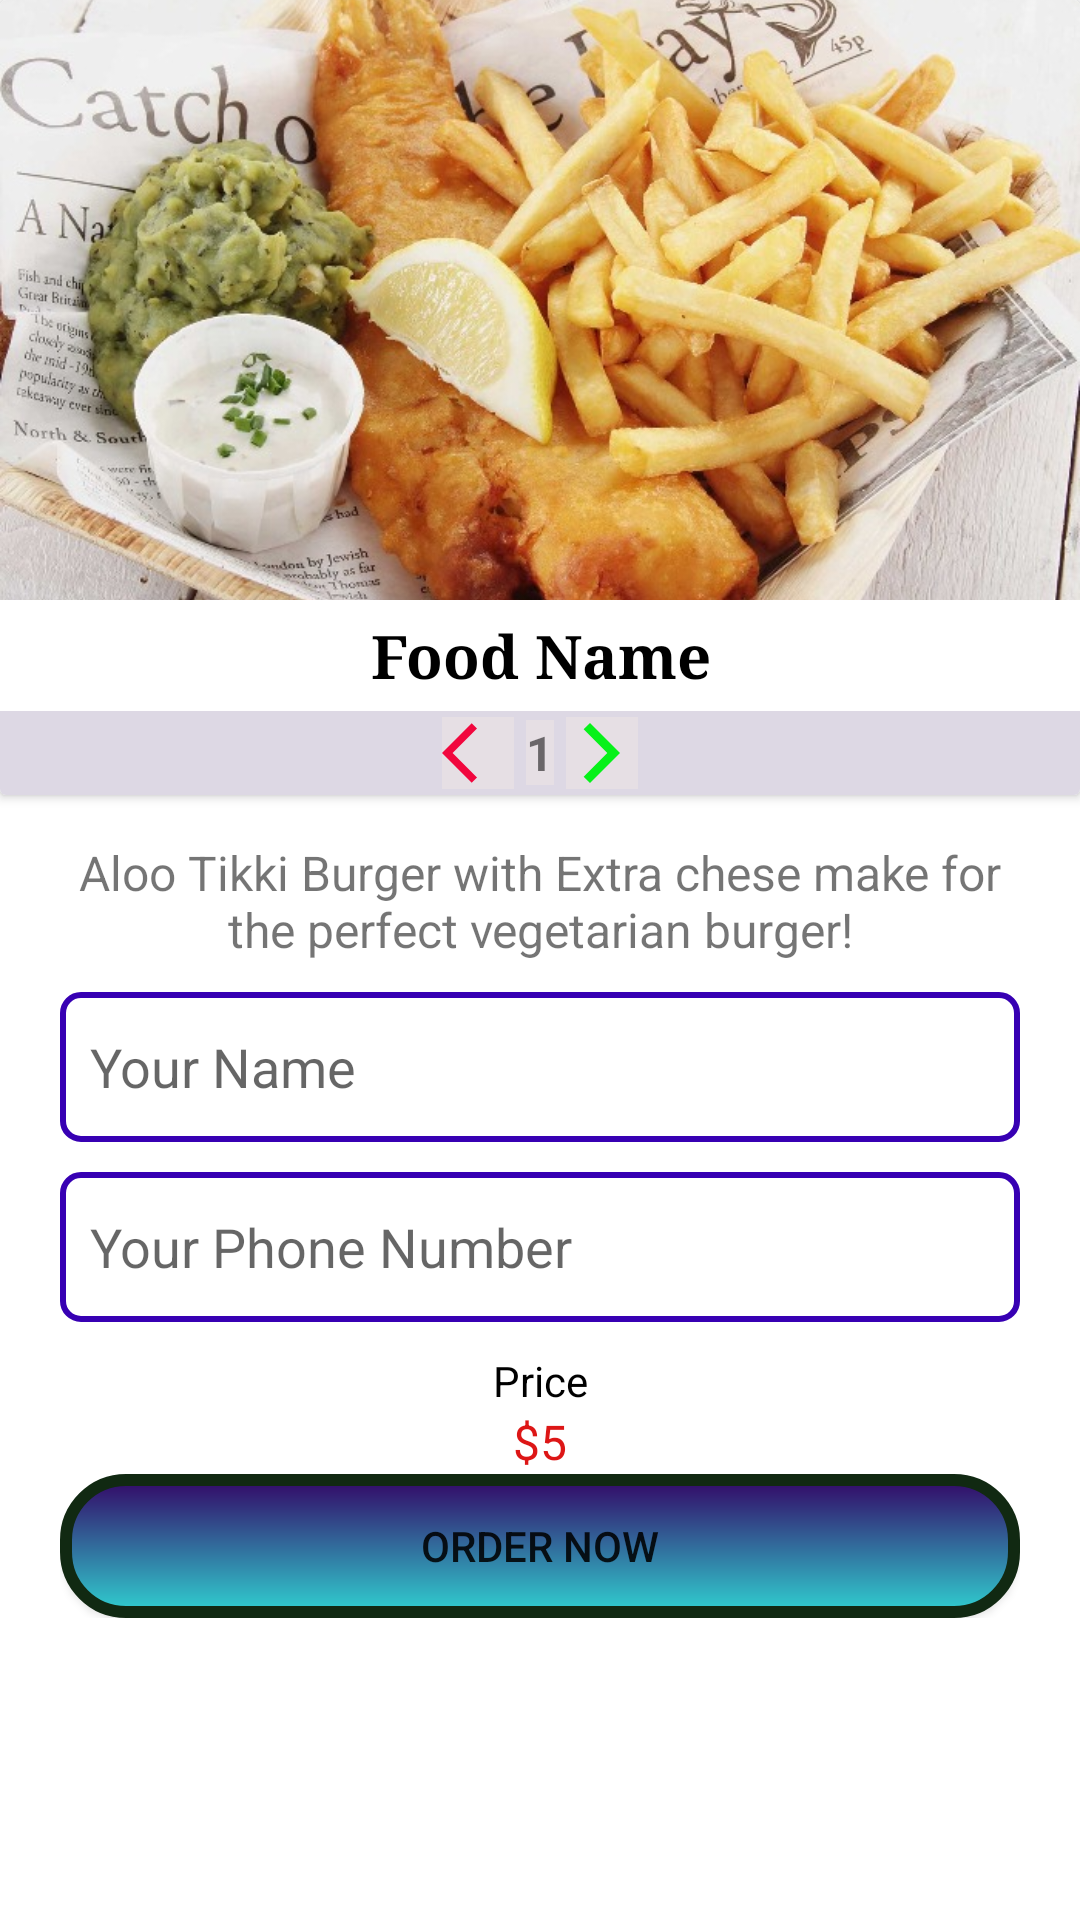

Point at icon controls on the screen. Image size 1080px×1920px, points as (x=x, y=y).
arrow back: (x=478, y=753)
arrow forward: (x=602, y=753)
